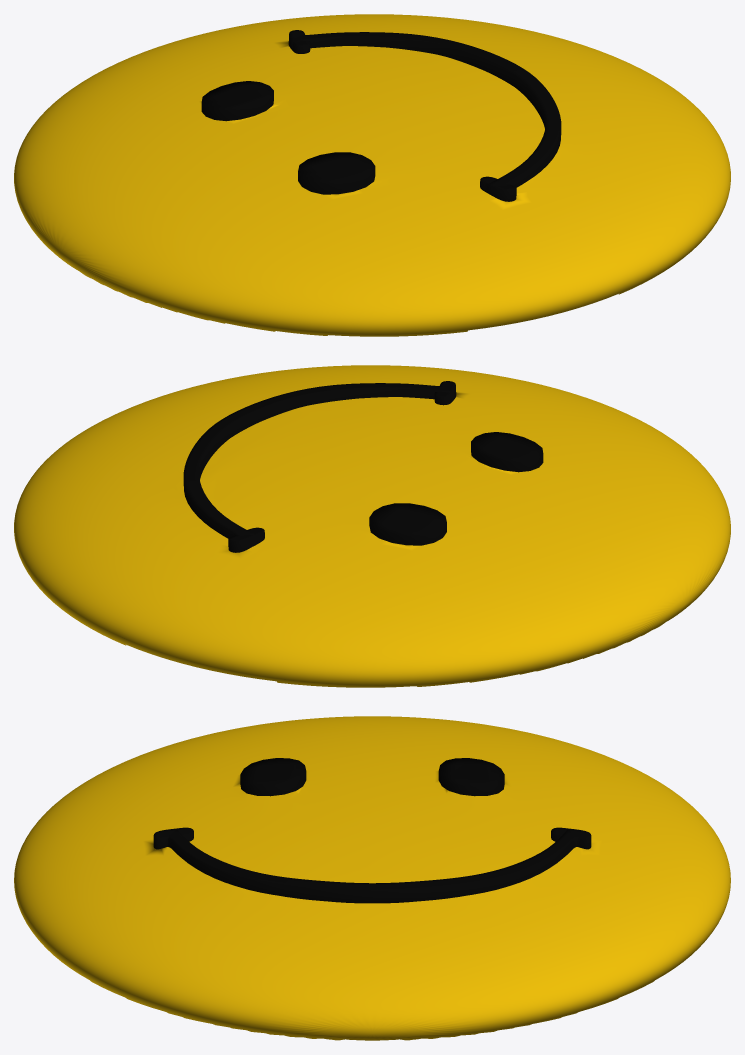
Rendered from talkingRobot.gltf.
The picture shows the model from 3 angles, top to bottom: view 1: azimuth 30°, elevation 25°; view 2: azimuth 150°, elevation 25°; view 3: azimuth 270°, elevation 25°; orthographic projection.
Parts seen in each view (by area): view 1: Sphere, Sphere.004, Sphere.003; view 2: Sphere, Sphere.004, Sphere.003; view 3: Sphere, Sphere.004, Sphere.003.
Part boxes in pixels (box(x1,y1,x2,y2)): Sphere: box(14, 14, 730, 336); Sphere.004: box(288, 30, 561, 201); Sphere.003: box(201, 81, 375, 194); Sphere: box(14, 365, 730, 687); Sphere.004: box(183, 381, 456, 552); Sphere.003: box(369, 432, 543, 545); Sphere: box(14, 716, 730, 1040); Sphere.004: box(153, 827, 591, 903); Sphere.003: box(240, 758, 504, 796).
Size of the model in its own units: 1.82 by 0.2207 by 1.8.
